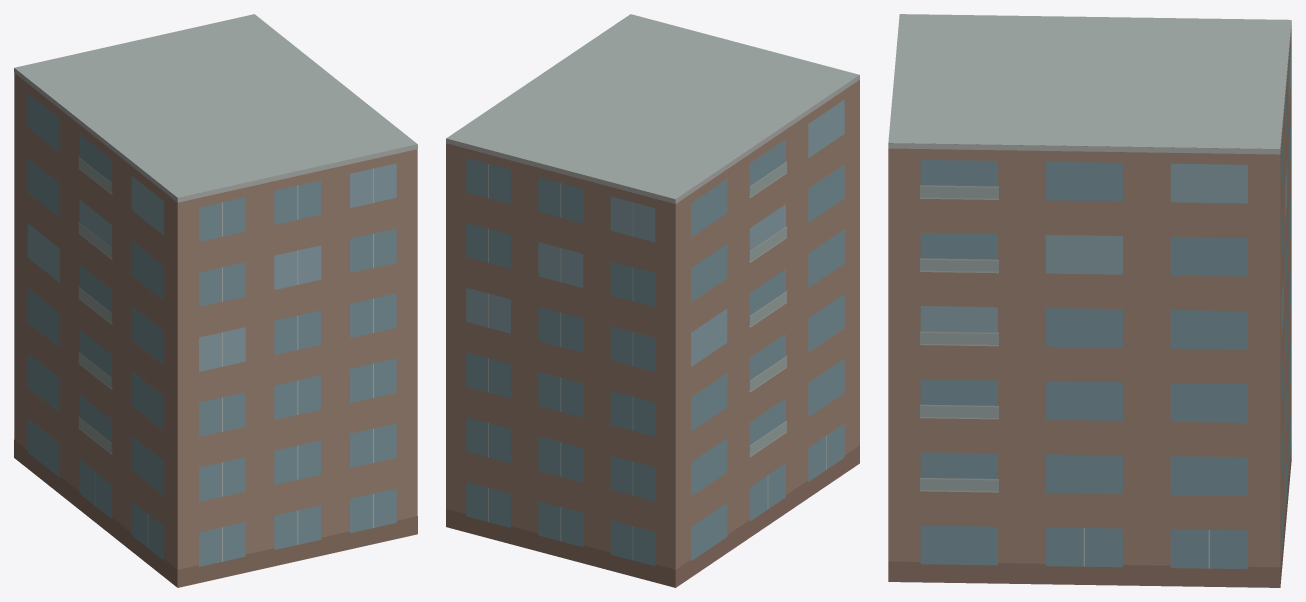
Rendered from survey-upis-32972174.glb.
The picture shows the model from 3 angles, left to right: view 1: azimuth 30°, elevation 25°; view 2: azimuth 150°, elevation 25°; view 3: azimuth 270°, elevation 25°; orthographic projection. The views are drawn at different scales.
Visible parts, largest first — view 1: survey-upis-32972174.tmp; view 2: survey-upis-32972174.tmp; view 3: survey-upis-32972174.tmp.
Boxes of the visible parts, <box> form: survey-upis-32972174.tmp: <box>14,14,417,587</box>; survey-upis-32972174.tmp: <box>446,14,859,587</box>; survey-upis-32972174.tmp: <box>888,14,1291,587</box>.
Bounding box in the file's own units: 12.98 × 19.65 × 16.38.
